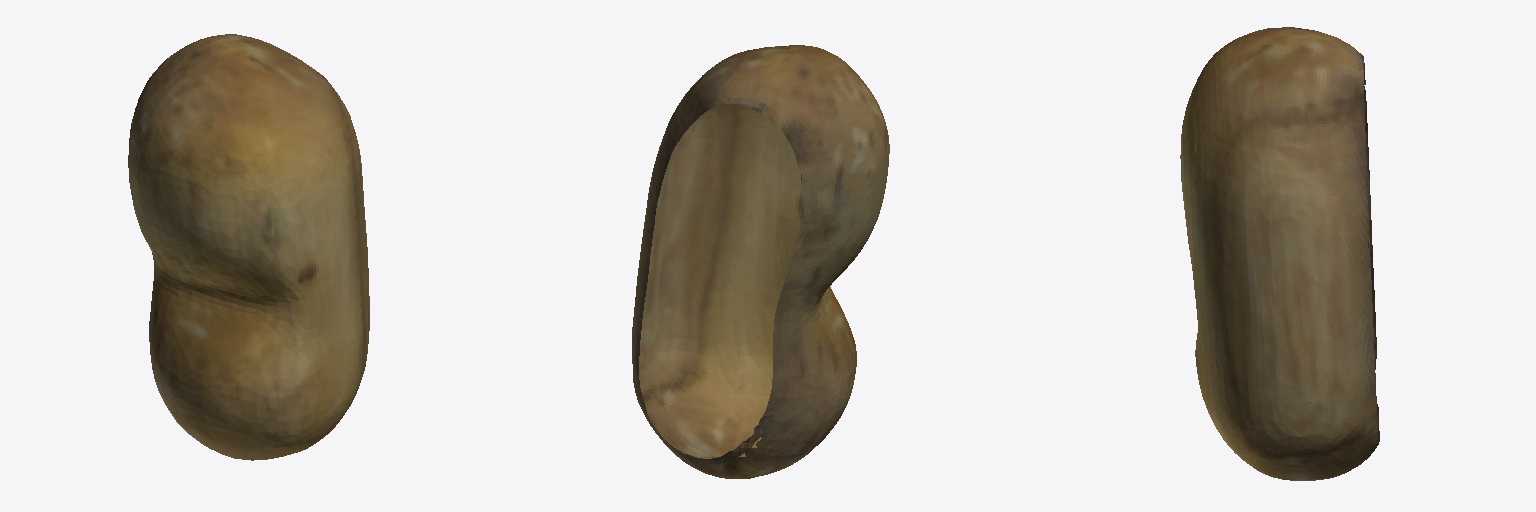
The picture shows the model from 3 angles: view 1: azimuth 30°, elevation 25°; view 2: azimuth 150°, elevation 25°; view 3: azimuth 270°, elevation 25°; orthographic projection.
Visible parts, largest first — view 1: mmGroup0; view 2: mmGroup0; view 3: mmGroup0.
Part boxes in pixels (left/top/right/bottom): mmGroup0: left=128, top=34, right=369, bottom=460; mmGroup0: left=632, top=45, right=889, bottom=478; mmGroup0: left=1180, top=27, right=1379, bottom=480.
Bounding box in the file's own units: 0.215 × 0.385 × 0.1655.
1 materials, 1 textured.